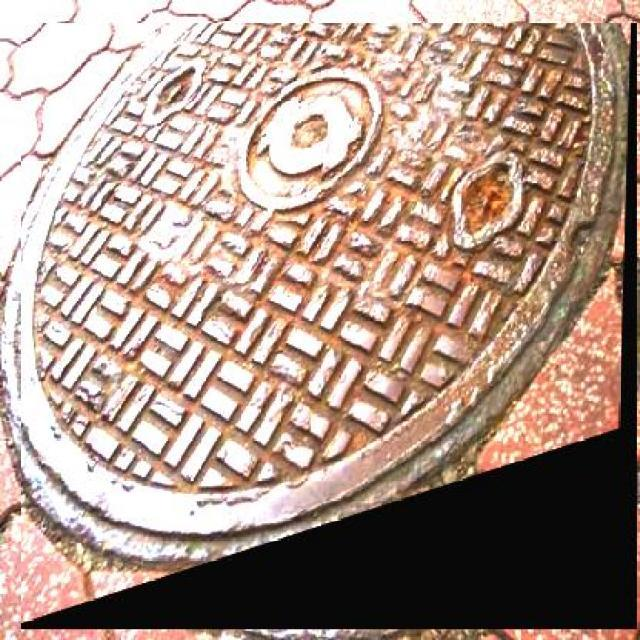Manhole: (20, 24, 637, 630)
